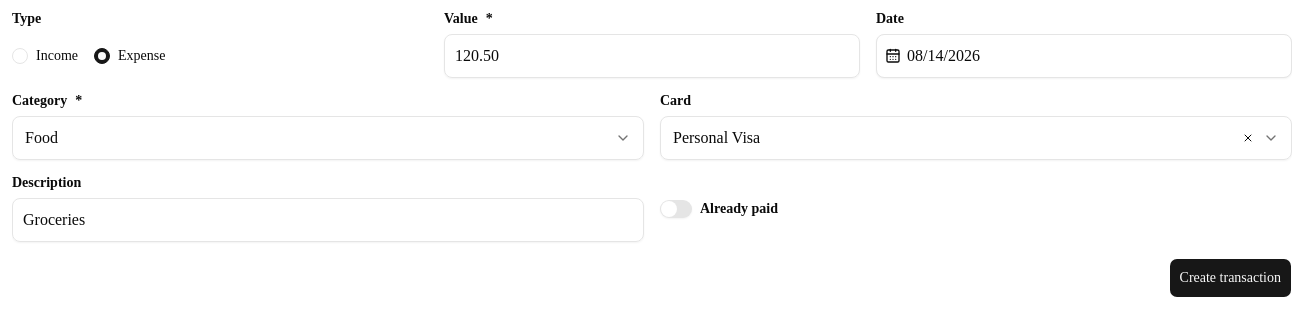
Test: TransactionForm › reveals the payment date and seeds it from the transaction date
Click the switch named "Already paid". click: (676, 209)
box: [660, 200, 692, 218]
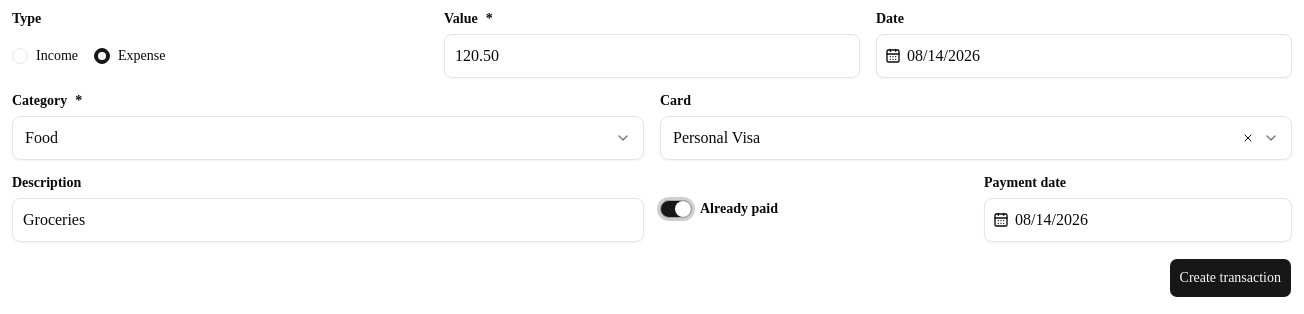
Result: the button named "Payment date" reads "08/14/2026" at [984, 198, 1292, 242]
